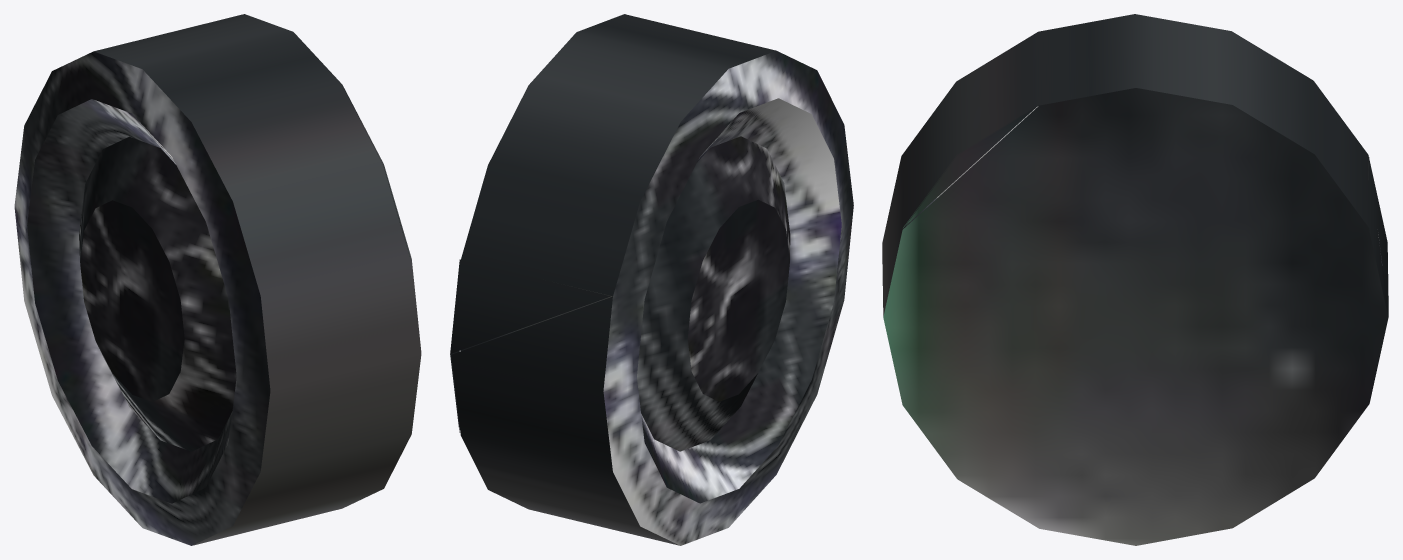
3 views of the same model, side by side, from view 1: azimuth 30°, elevation 25°; view 2: azimuth 150°, elevation 25°; view 3: azimuth 270°, elevation 25° (orthographic).
Visible parts, largest first — view 1: FRW.003_material; view 2: FRW.003_material, FRW.004_material; view 3: FRW.003_material, FRW.004_material.
Part boxes in pixels (box(x1,y1,x2,y2)): FRW.003_material: box(14, 14, 421, 545); FRW.003_material: box(451, 14, 853, 545); FRW.004_material: box(450, 259, 610, 432); FRW.003_material: box(882, 14, 1388, 545); FRW.004_material: box(903, 106, 1388, 403).
Bounding box in the file's own units: 0.2429 × 0.6461 × 0.6476.
